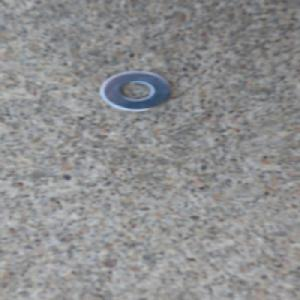Washer: (96, 68, 176, 114)
